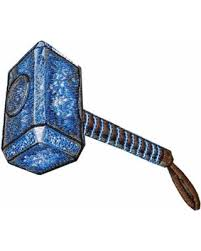THOR Hammer: (5, 35, 174, 200)
